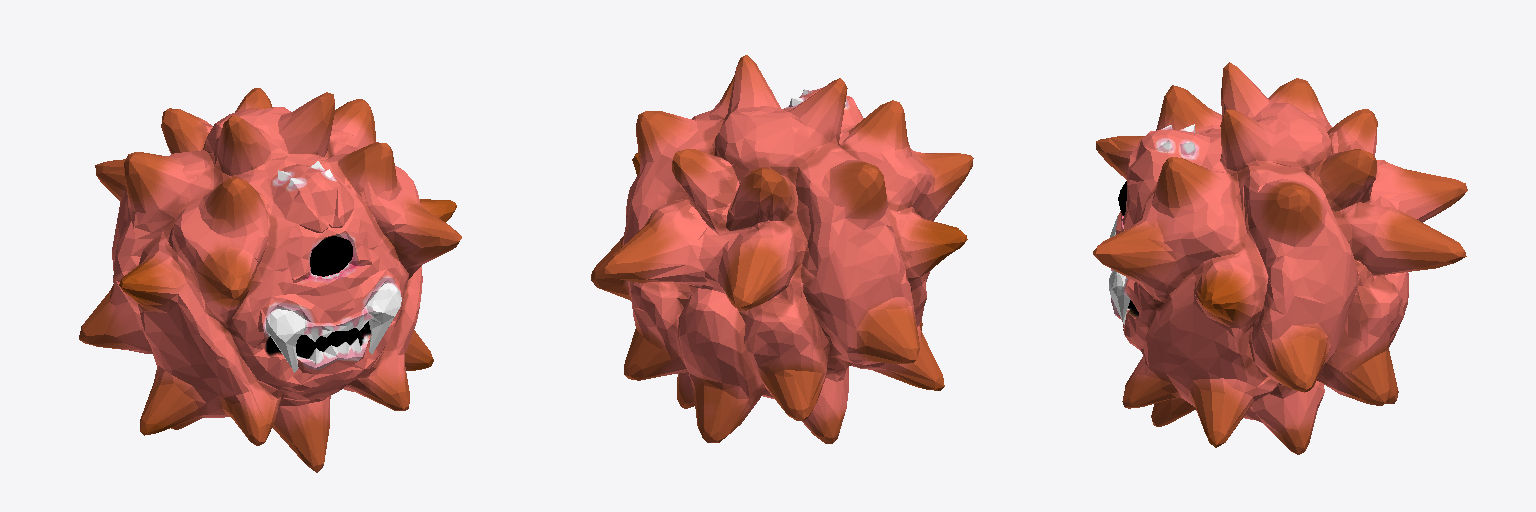
3 views of the same model, side by side, from view 1: azimuth 30°, elevation 25°; view 2: azimuth 150°, elevation 25°; view 3: azimuth 270°, elevation 25° (orthographic).
Parts seen in each view (by area): view 1: Body_Quad_Sphere, Sphere; view 2: Body_Quad_Sphere; view 3: Body_Quad_Sphere.
Part boxes in pixels (x1,y1,x2,y2): Body_Quad_Sphere: (79,88,461,472); Sphere: (310,236,352,276); Body_Quad_Sphere: (591,55,973,443); Body_Quad_Sphere: (1093,62,1467,454).
Size of the model in its own units: 4.66 by 4.56 by 4.54.
2 materials, 1 textured.